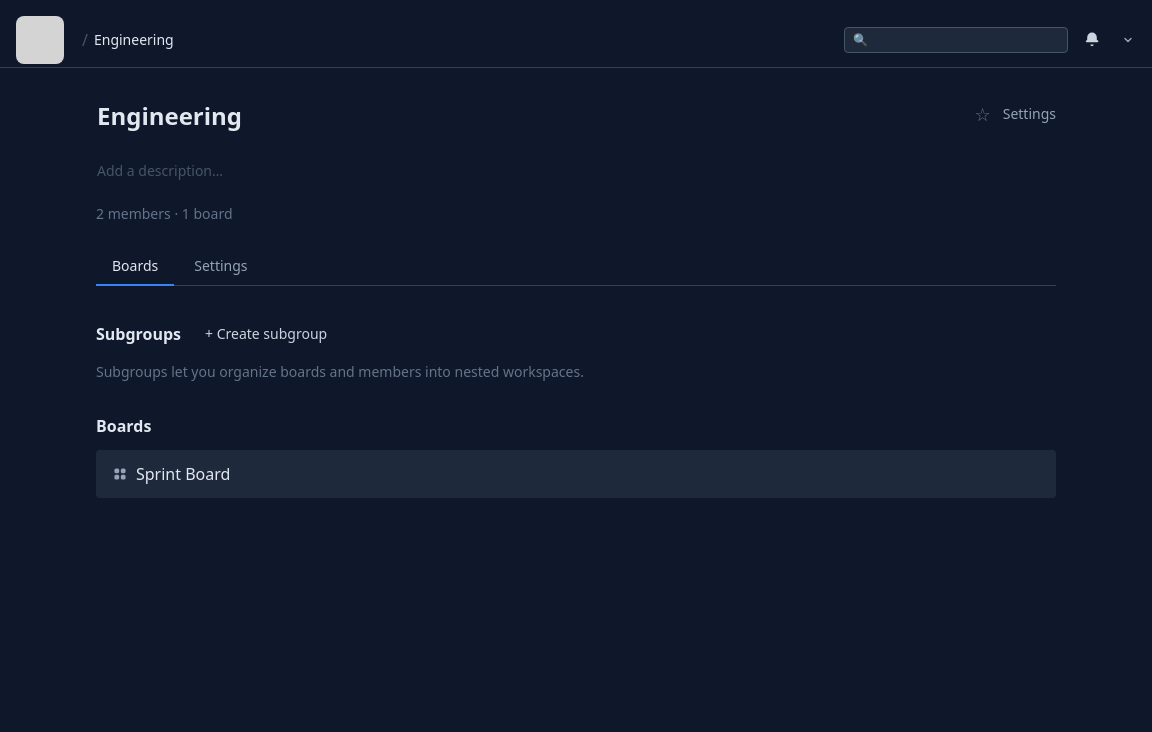
Test case: GroupDetail › renders group details when loaded
Expected: the text "Sprint Board" is shown, [136,462,230,486]
Expected: the heading "Subgroups" is shown, [96,322,181,346]
Members and Settings content live in the Settings tab
Click the 1st button "Settings" at (1029, 114), box [1003,104,1056,124]
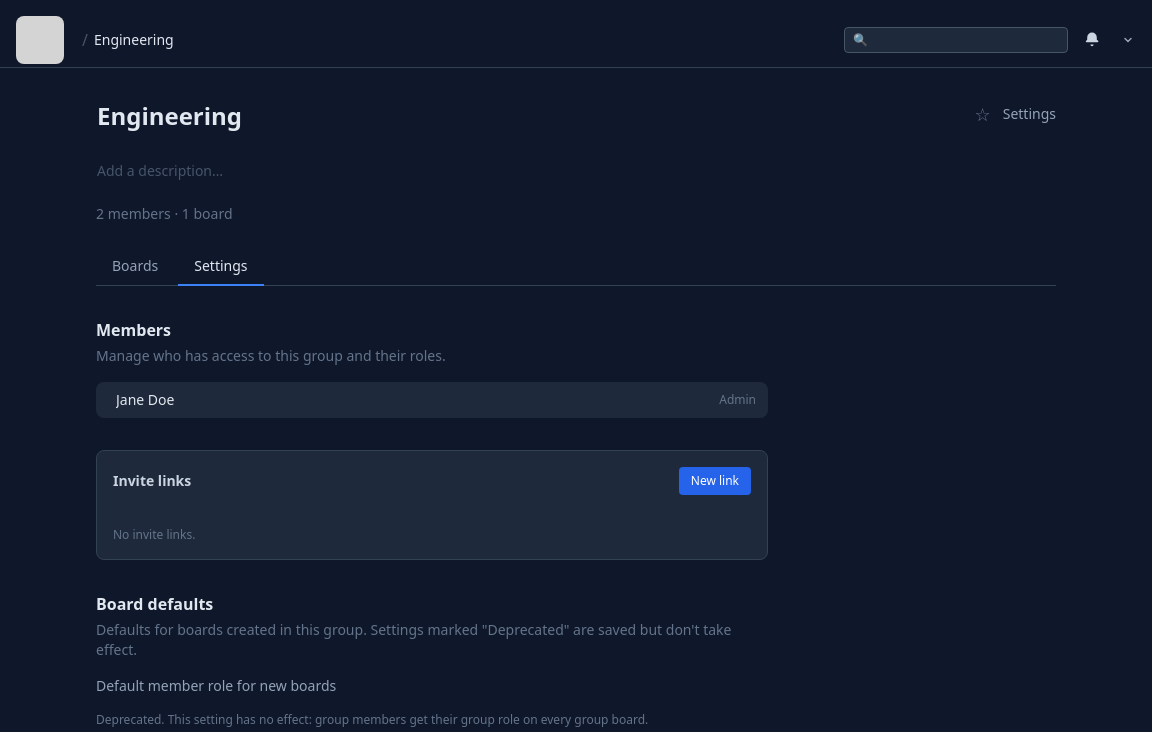
Now the heading "Members" is shown, box [96,319,171,341]
